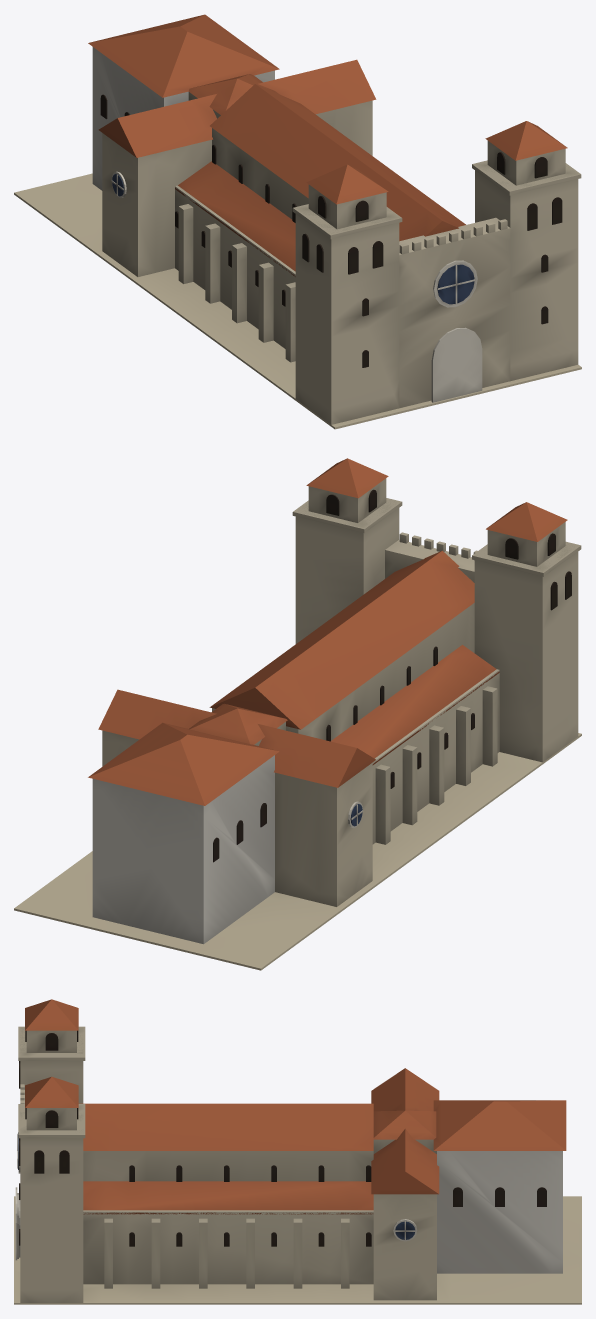
3 renders of one model, top to bottom at view 1: azimuth 30°, elevation 25°; view 2: azimuth 150°, elevation 25°; view 3: azimuth 270°, elevation 25°, orthographic. The views are drawn at different scales.
Visible parts, largest first — view 1: p1_nave, p2_towers, p0_ground; view 2: p1_nave, p2_towers, p0_ground; view 3: p1_nave, p2_towers, p0_ground.
Boxes of the visible parts, x1,y1,x2,y2 form: p1_nave: (88,14,465,362); p2_towers: (292,121,581,424); p0_ground: (14,173,581,429); p1_nave: (88,550,499,944); p2_towers: (292,458,581,762); p0_ground: (14,733,581,970); p1_nave: (79,1068,566,1300); p2_towers: (15,999,85,1302); p0_ground: (14,1196,581,1304).
Bounding box in the file's own units: 40.6 × 37.3 × 90.
